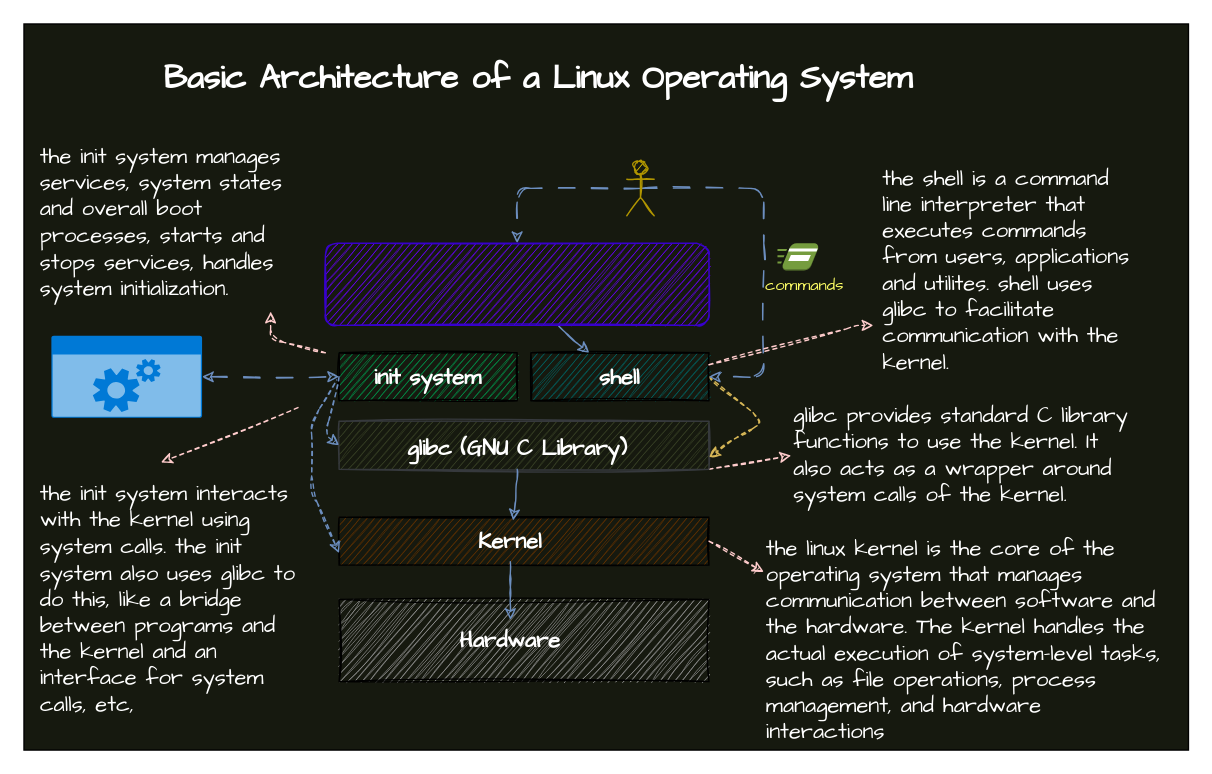
The diagram is 1212 pixels wide and 774 high, and some of its shapes have lost their labels. The shapes that lost their labels are listed below. From the top down, each one's box as (x1, y1, x2, y2) in pixels, then its label:
(625, 160, 654, 216): User
(324, 242, 709, 325): Applications / Utilities
(51, 335, 201, 417): Services
